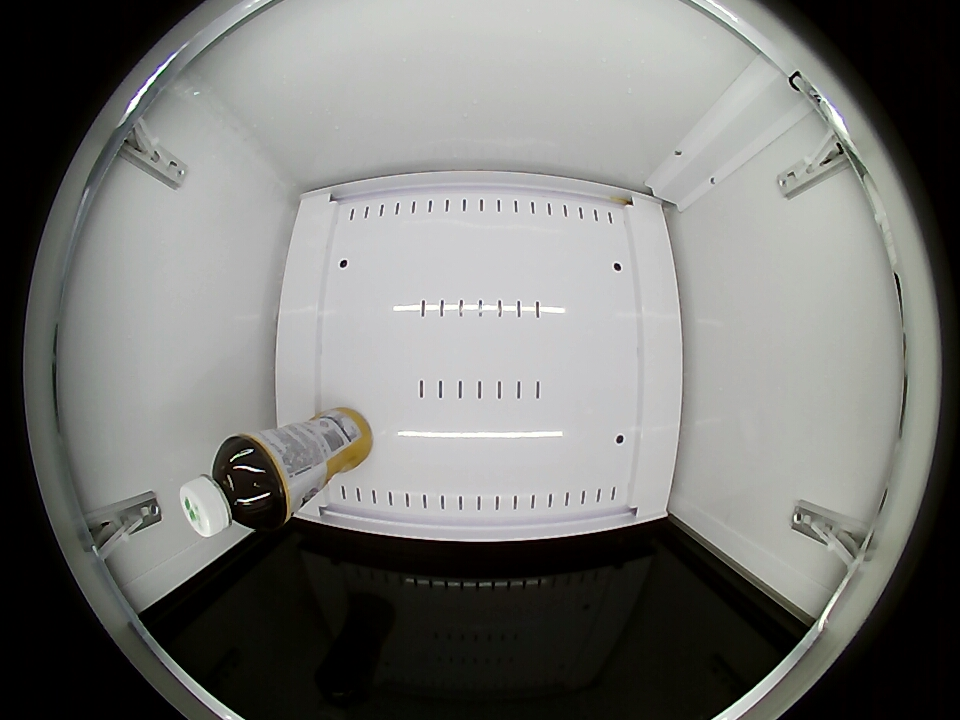damaicha: (180, 436, 286, 538)
